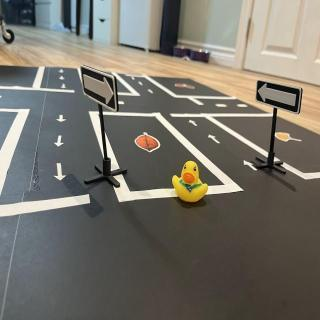duck_regular: (174, 162, 210, 206)
road_oneway: (53, 162, 69, 184), (244, 158, 260, 174), (53, 133, 67, 151), (208, 132, 222, 144), (56, 113, 68, 124), (188, 119, 200, 129), (147, 88, 155, 98)
sign_oneway_left: (257, 79, 304, 117)
sign_oneway_right: (81, 66, 118, 112)
